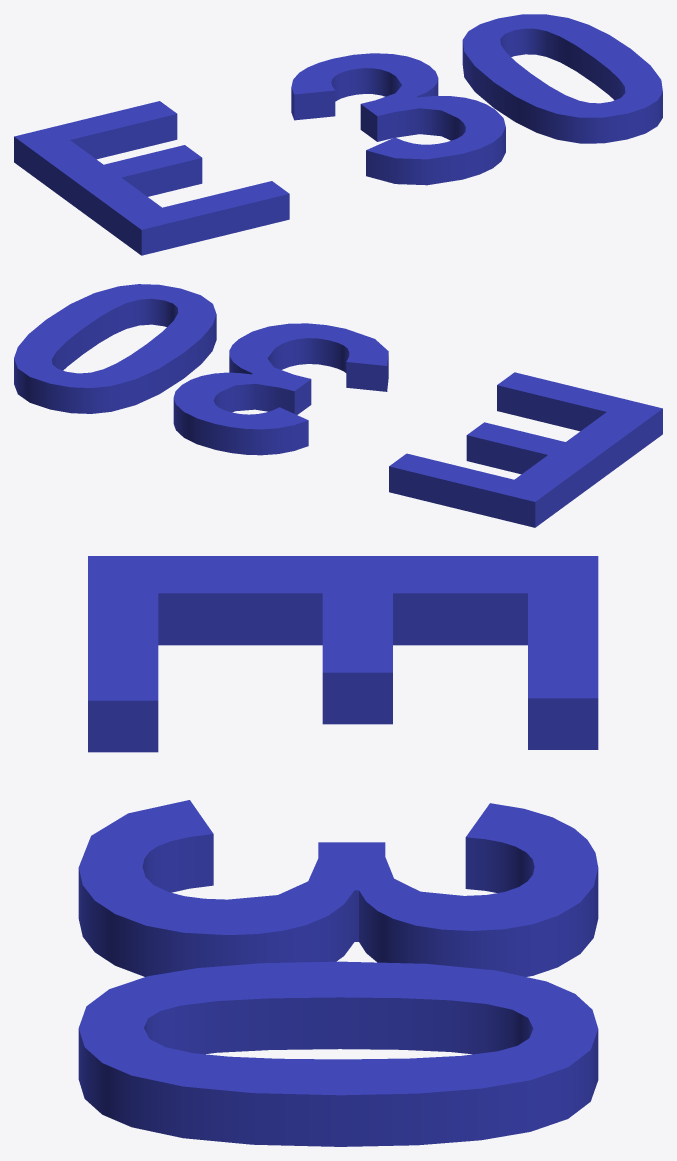
3 renders of one model, top to bottom at view 1: azimuth 30°, elevation 25°; view 2: azimuth 150°, elevation 25°; view 3: azimuth 270°, elevation 25°, orthographic. The views are drawn at different scales.
Parts seen in each view (by area): view 1: node_id33; view 2: node_id33; view 3: node_id33.
Part boxes in pixels (bbox=[...]): node_id33: bbox=[14, 14, 662, 255]; node_id33: bbox=[14, 284, 662, 527]; node_id33: bbox=[78, 556, 598, 1146].
Bounding box in the file's own units: 0.4194 × 0.0188 × 0.1707.
